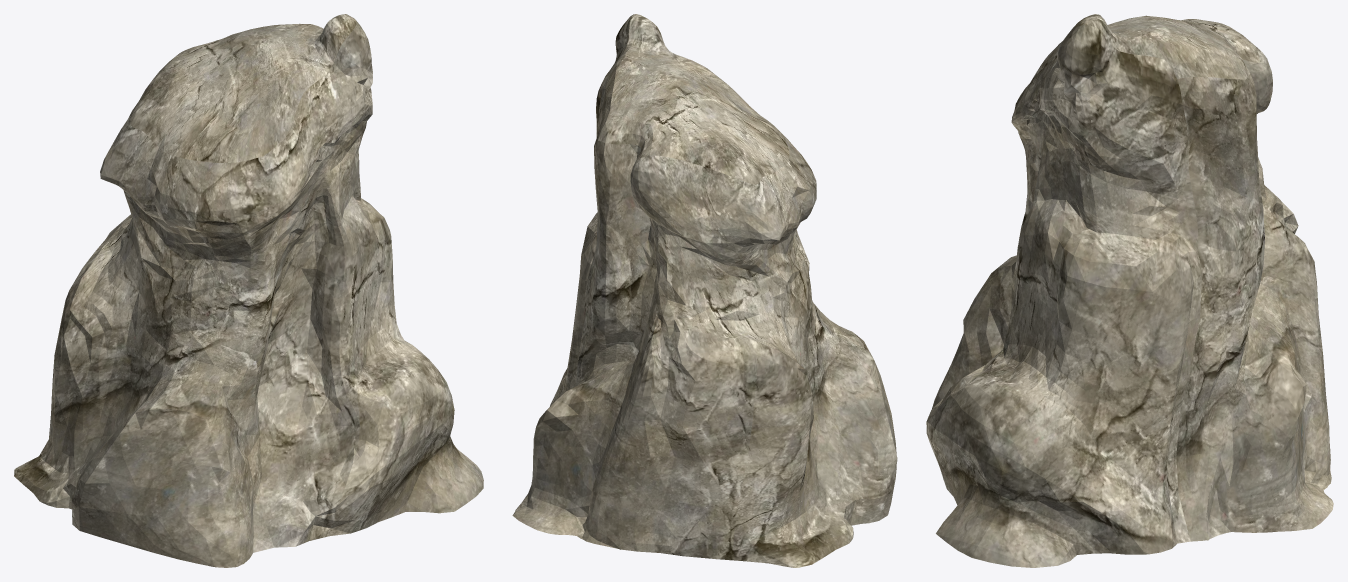
Rendered from tw2_1_rock_01_2-transformed.glb.
3 views of the same model, side by side, from view 1: azimuth 30°, elevation 25°; view 2: azimuth 150°, elevation 25°; view 3: azimuth 270°, elevation 25° (orthographic). The views are drawn at different scales.
Visible parts, largest first — view 1: default; view 2: default; view 3: default.
Boxes of the visible parts, bbox=[...] form: default: bbox=[14, 14, 483, 567]; default: bbox=[512, 14, 897, 567]; default: bbox=[926, 14, 1333, 567].
Bounding box in the file's own units: 54.36 × 63.89 × 47.54.
Materials: 1 (1 with a texture image).
